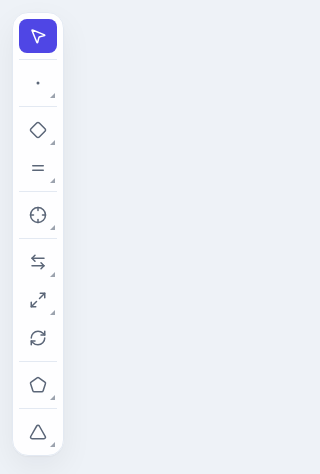
Test: ConstructionToolbar › groups the basic shape tools under a single flyout button
This screenshot has width=320, height=474.
Check: the button "Point" is not shown
Check: the button "Segment" is not shown
Click the button named "Basic shapes" at point(38, 83), box top-left (19, 66), bottom-right (57, 100)
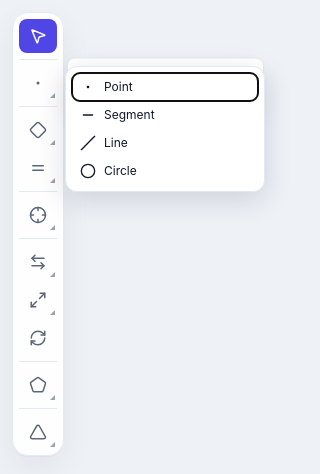
Click the menu item "Circle" at point(165, 171), box top-left (72, 157), bottom-right (258, 185)
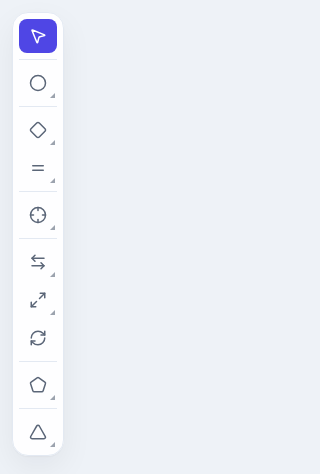
Check: the menu is gone
